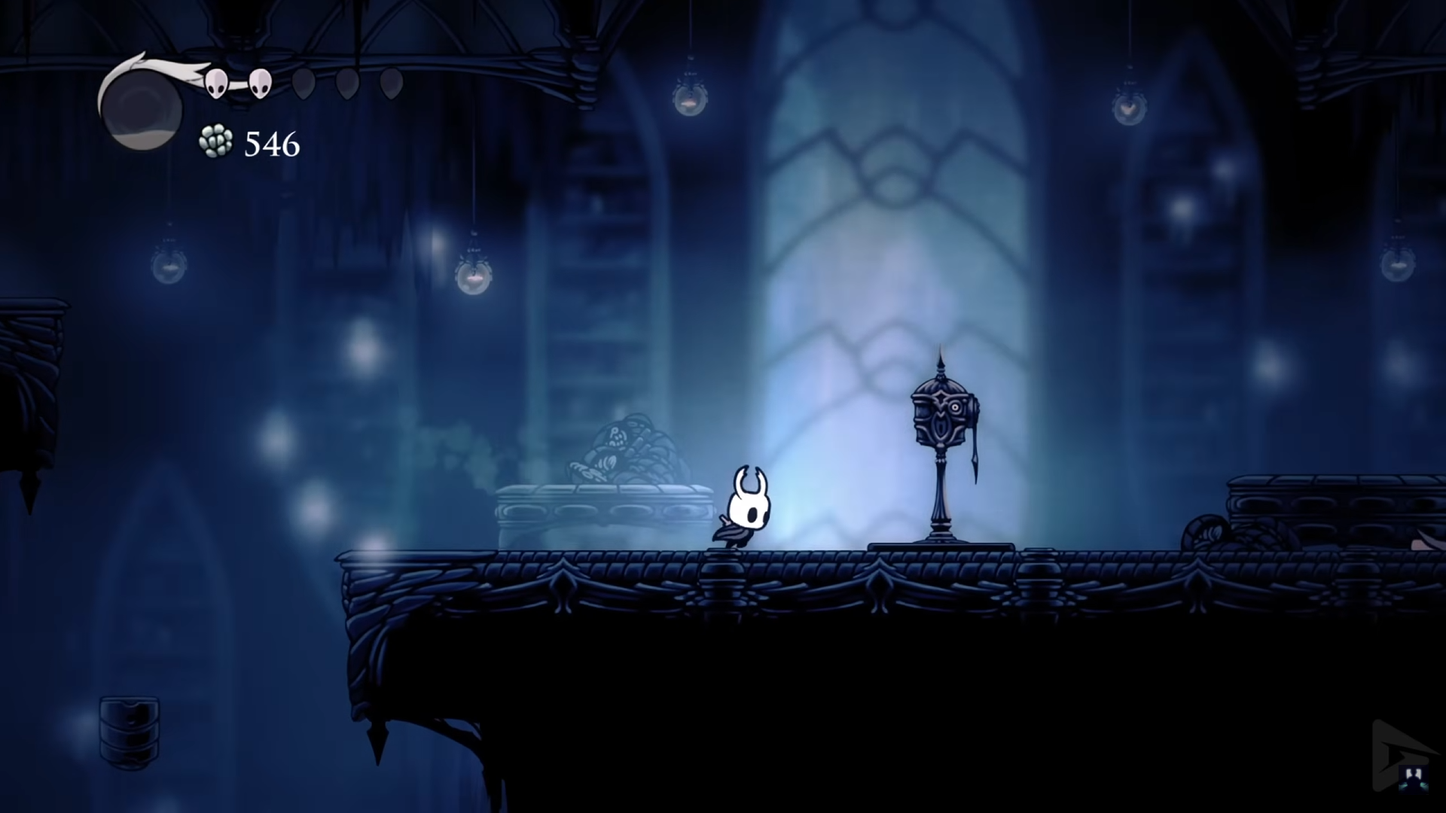HK: (712, 464, 776, 552)
